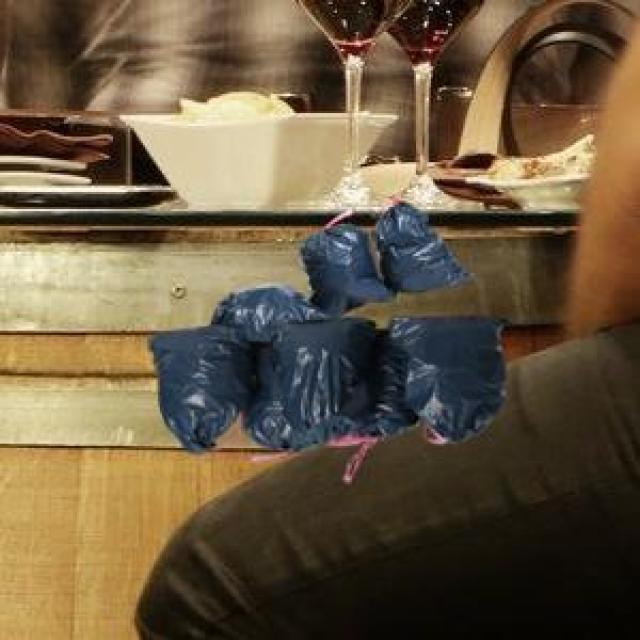Vinyl: (152, 202, 505, 449)
